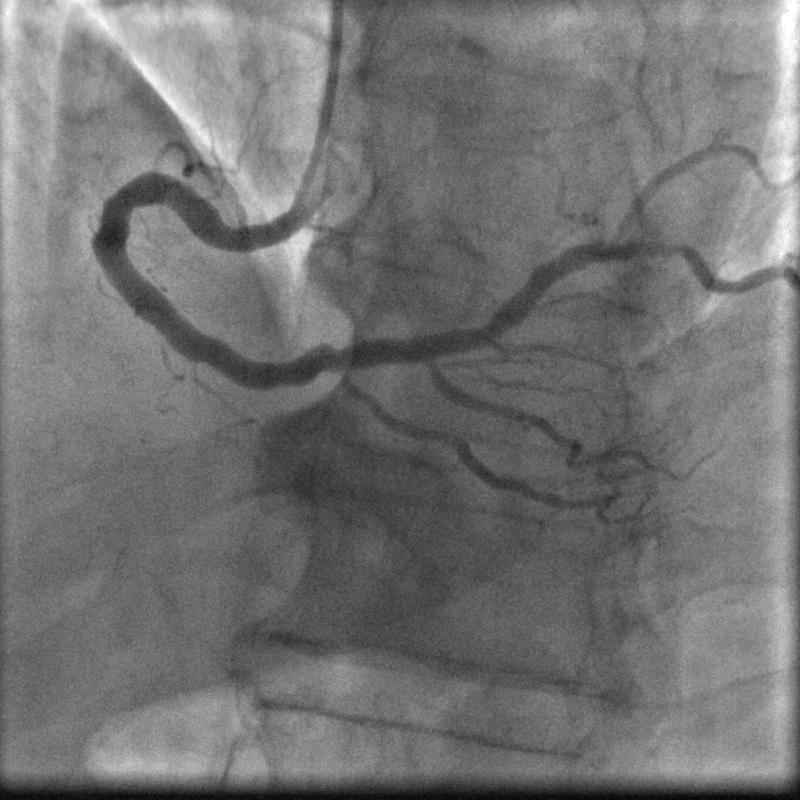Stenosis: (638, 235, 694, 265)
